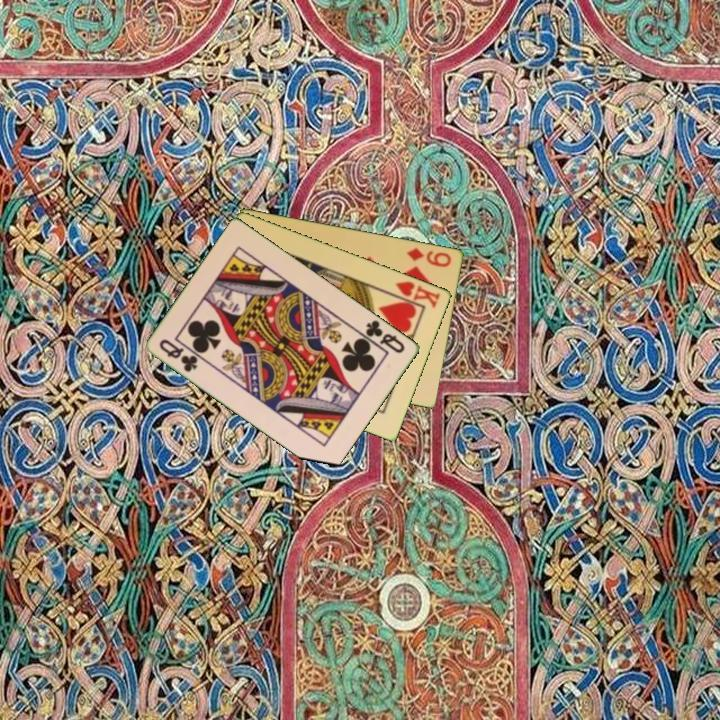9d: (404, 244, 455, 270)
Kh: (386, 277, 443, 311)
Qc: (357, 316, 408, 356), (156, 335, 201, 375)
